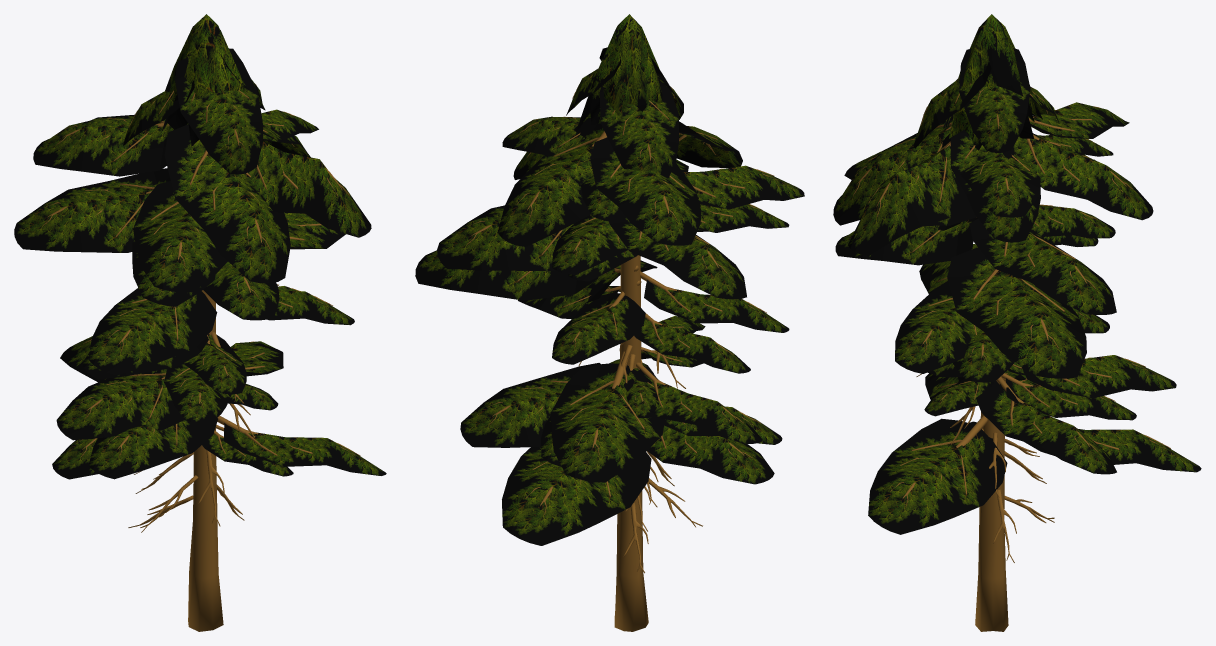
File: PineTree_6-combined.fbx
3 renders of one model, left to right at view 1: azimuth 30°, elevation 25°; view 2: azimuth 150°, elevation 25°; view 3: azimuth 270°, elevation 25°, orthographic.
Parts seen in each view (by area): view 1: Trunk; view 2: Trunk; view 3: Trunk.
Boxes of the visible parts, x1,y1,x2,y2 form: Trunk: (14,14,386,631); Trunk: (415,14,804,631); Trunk: (833,14,1201,631).
Size of the model in its own units: 1104 by 1930 by 1049.
